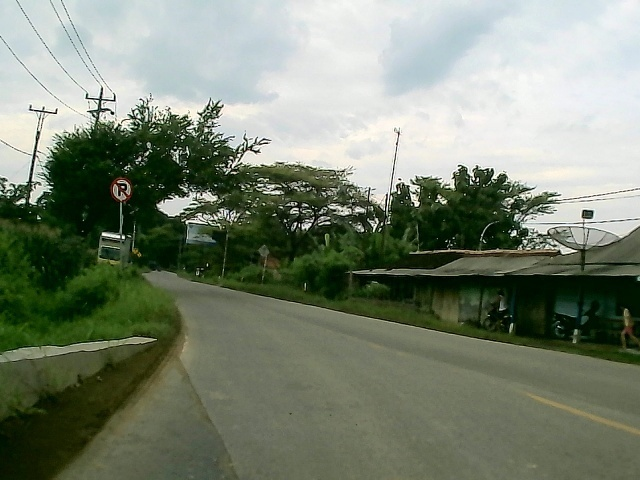Dilarang parkir: (108, 175, 134, 204)
